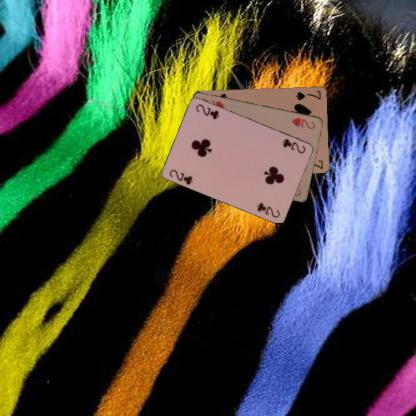2c: (167, 166, 194, 186), (280, 136, 307, 155)
2h: (290, 115, 316, 131)
7s: (293, 89, 322, 101)
